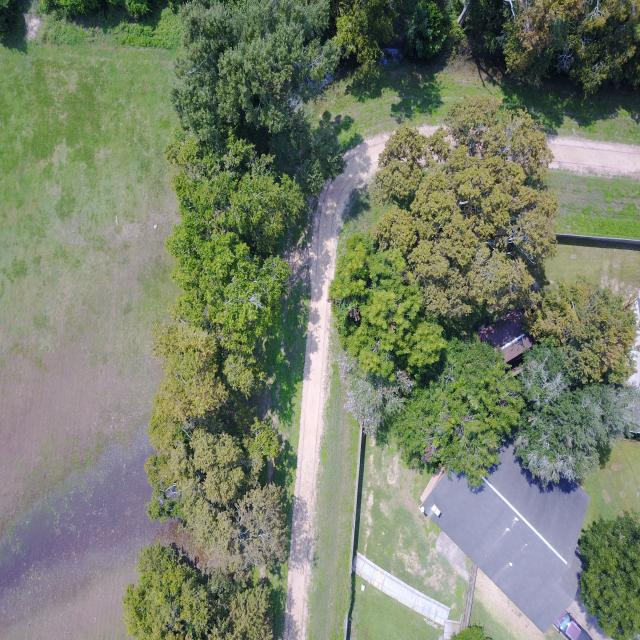fire: (0, 437, 172, 620)
